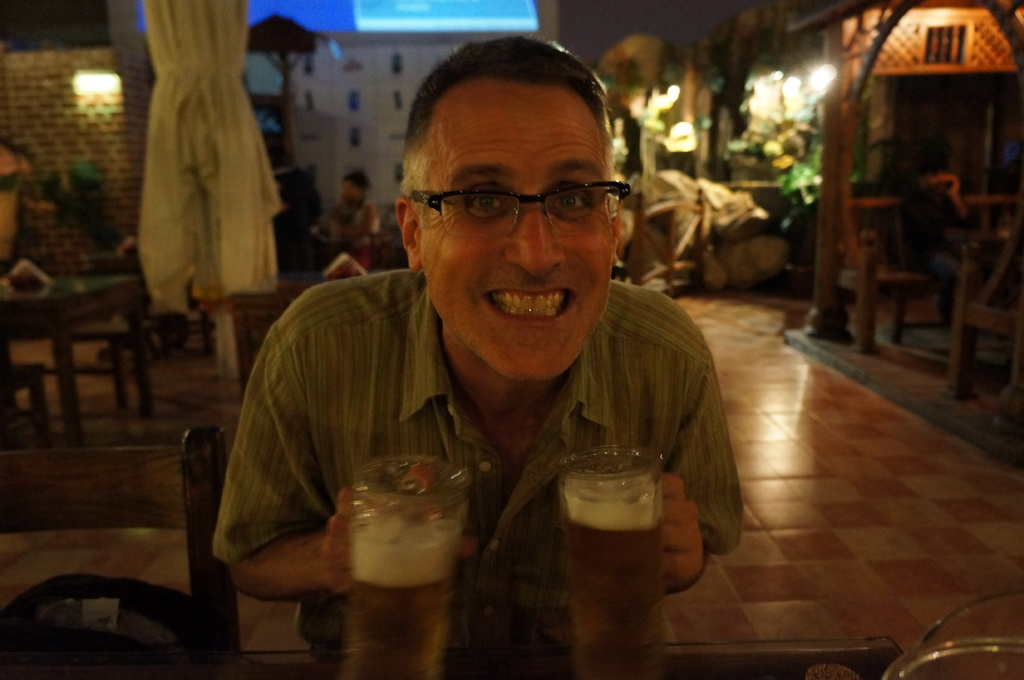Beer: (560, 491, 664, 670), (347, 523, 458, 679)
